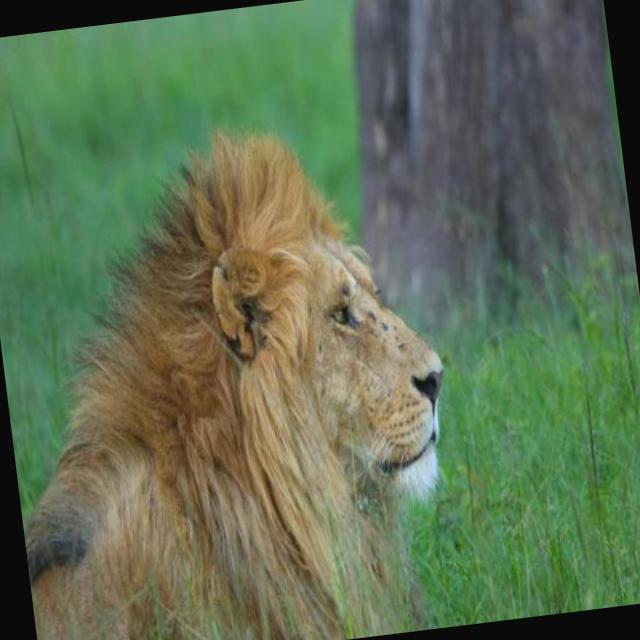lions: (0, 83, 488, 640)
